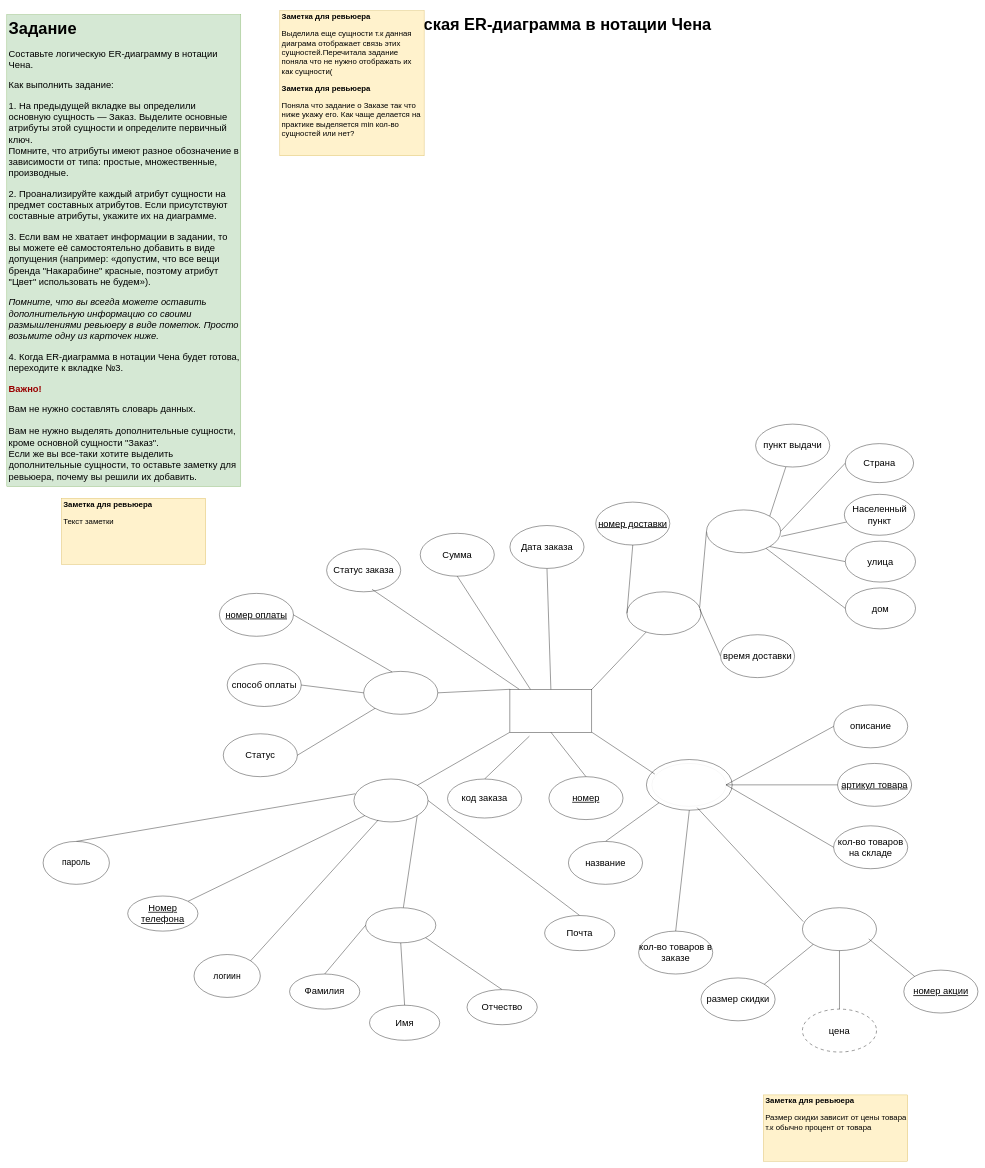
Some shapes in this 985 by 1168 pixel diagram are drawn without their labels. Each missing label, with the centre of its shape:
"акции" goes at (839,929).
"доставка" goes at (664,613).
"Заказ" goes at (551,710).
"место доставки" goes at (743,531).
"оплата" goes at (400,692).
"пользователь" goes at (391,800).
"товар" goes at (689,784).
"ФИО" goes at (400,925).
